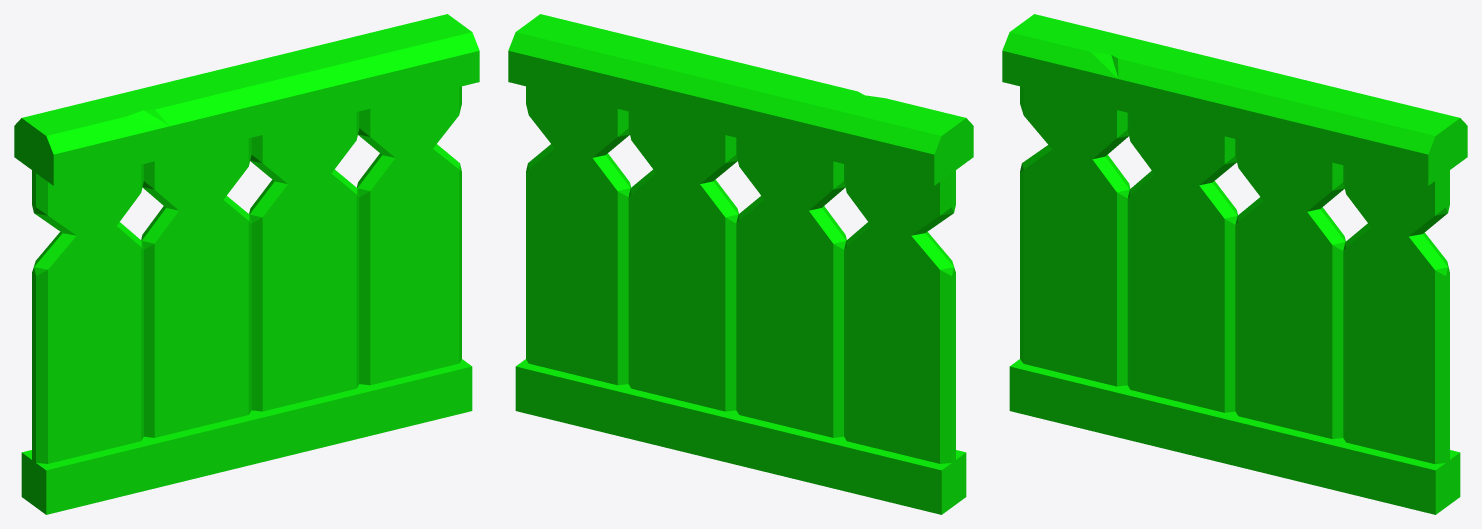
File: SM_Railing_Wood_B_1m.fbx
3 views of the same model, side by side, from view 1: azimuth 30°, elevation 25°; view 2: azimuth 150°, elevation 25°; view 3: azimuth 330°, elevation 25° (orthographic).
Parts seen in each view (by area): view 1: railing-wood-b-1m; view 2: railing-wood-b-1m; view 3: railing-wood-b-1m.
Part boxes in pixels (x1=…): railing-wood-b-1m: x1=14, y1=14, x2=479, y2=514; railing-wood-b-1m: x1=508, y1=14, x2=973, y2=514; railing-wood-b-1m: x1=1002, y1=14, x2=1467, y2=514.
Size of the model in its own units: 1 by 0.85 by 0.16.
